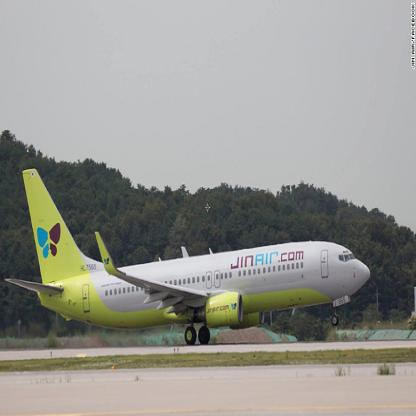CIV_Plane: (2, 161, 374, 351)
